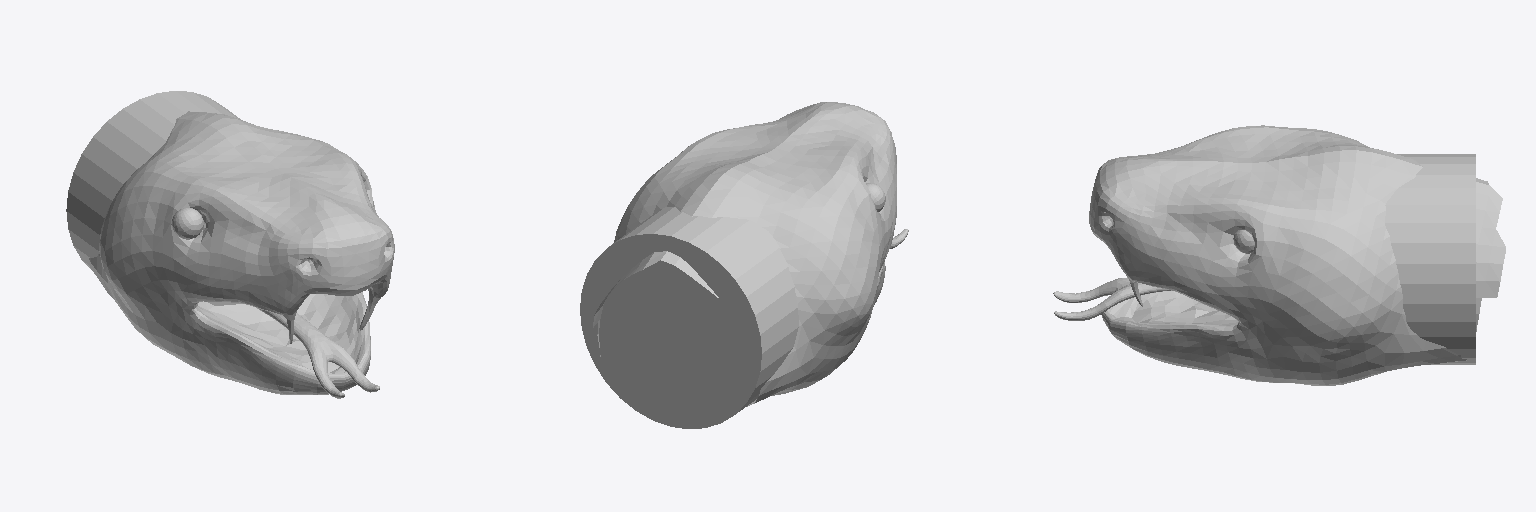
The model's file is head2.obj.
The picture shows the model from 3 angles: view 1: azimuth 30°, elevation 25°; view 2: azimuth 150°, elevation 25°; view 3: azimuth 270°, elevation 25°; orthographic projection.
Size of the model in its own units: 2.7 by 2.28 by 4.31.